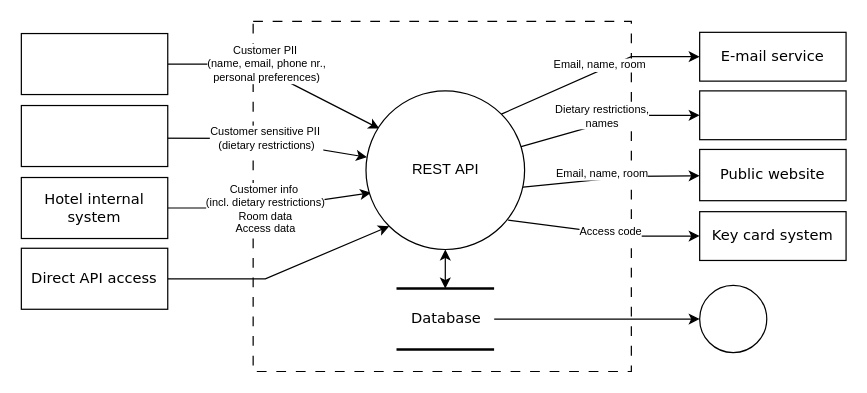
Some shapes in this 867 by 393 pixel diagram are drawn without their labels. Each missing label, with the box of its shape:
Analytics: (698, 284, 767, 353)
Public web page restaurant booking: (20, 104, 168, 167)
Public website room booking: (20, 32, 168, 95)
Restaurant: (698, 90, 846, 140)
